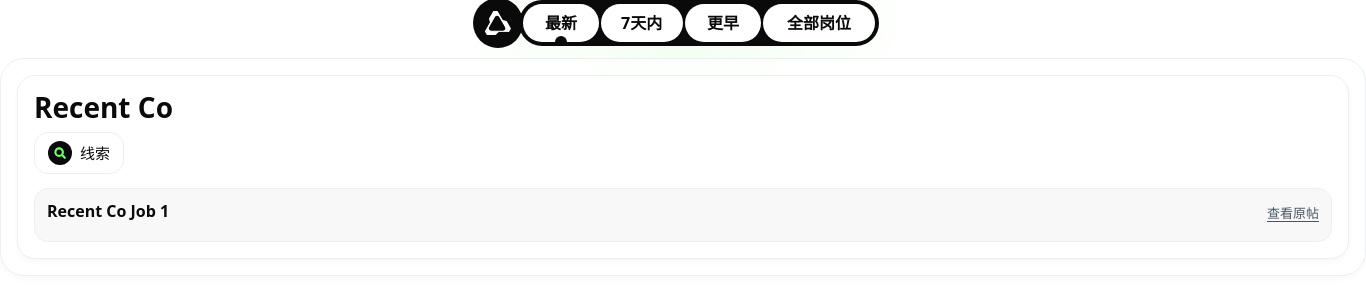
Test: CompanyFeedTimeline › switches between recent buckets with horizontal tabs
Check: the heading "Recent Co" is shown, box [34,88,173,126]
Check: the text "Week Co" is not shown
Click the tab "7天内": (642, 23) [601,4,683,42]
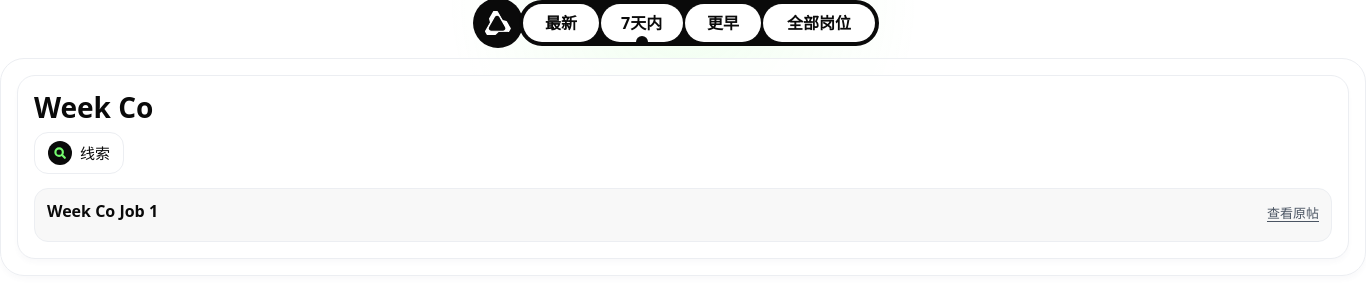
Check: the heading "Week Co" is shown, box [34,88,153,126]
Check: the heading "Recent Co" is gone
Click the tab "更早": (723, 23) [685,4,761,42]
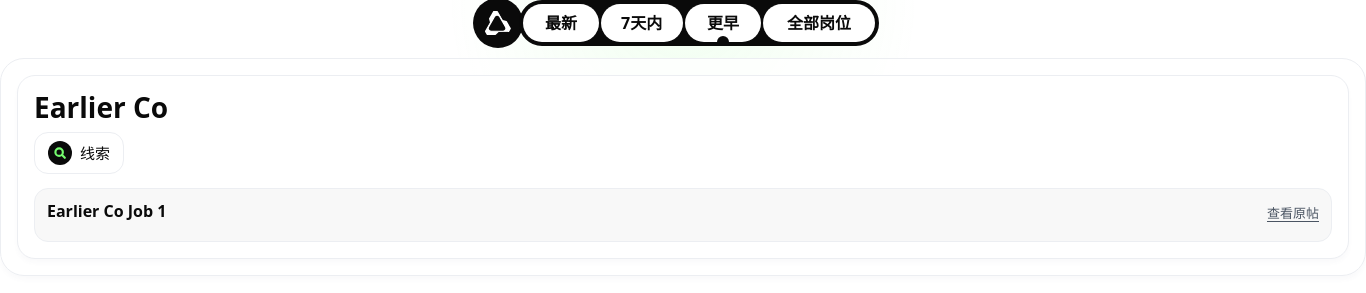
Check: the heading "Earlier Co" is shown, box [34,88,168,126]
